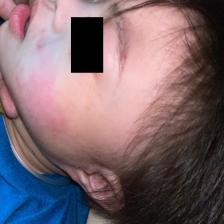DA: (18, 48, 70, 131)
